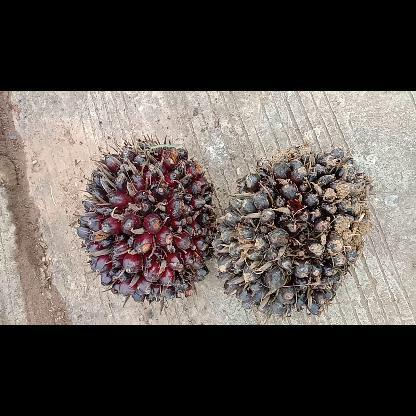TBS mentah: (212, 144, 374, 316), (75, 134, 223, 306)
